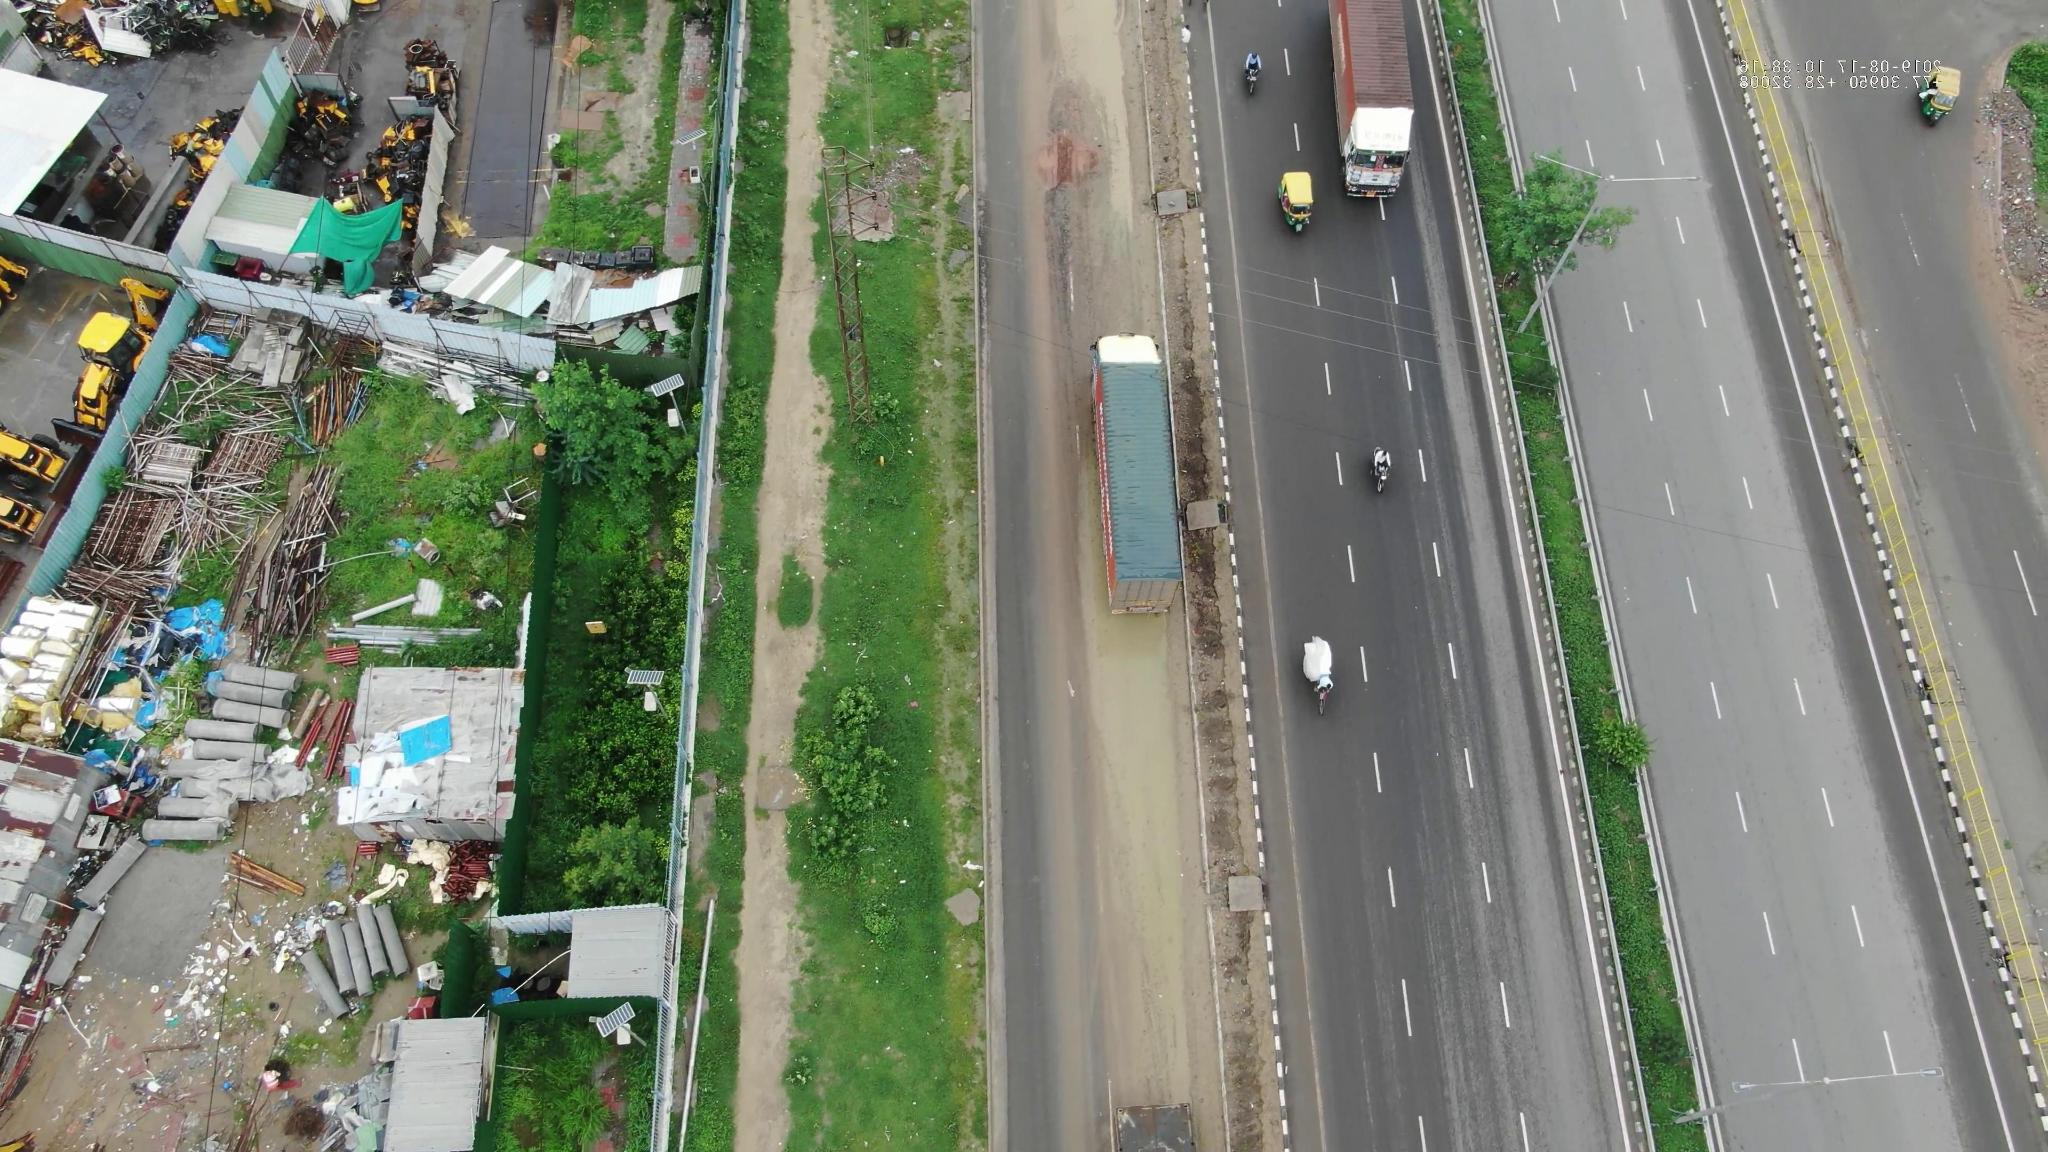Muddy_road: (1048, 42, 1167, 307), (1104, 778, 1196, 1089)
